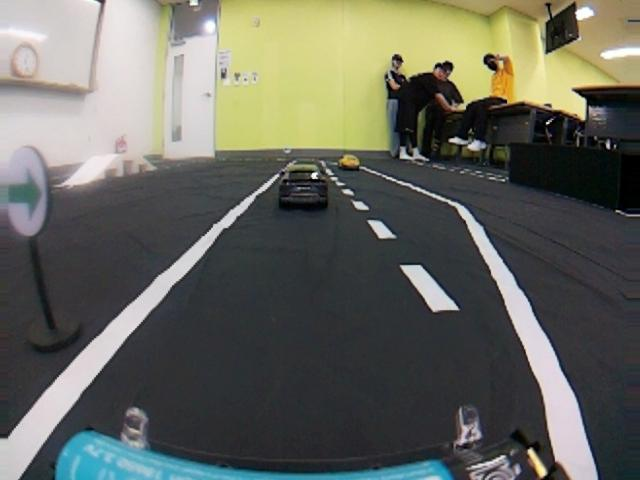car: (273, 156, 333, 210), (338, 150, 365, 170)
sign_right: (0, 142, 56, 248)
straight: (73, 235, 640, 479)
